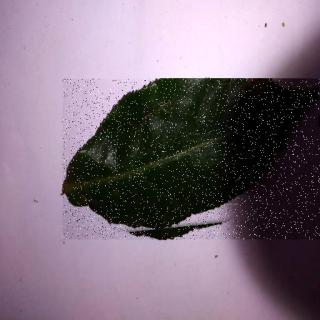Bird Eye Spot: (63, 80, 320, 240)
